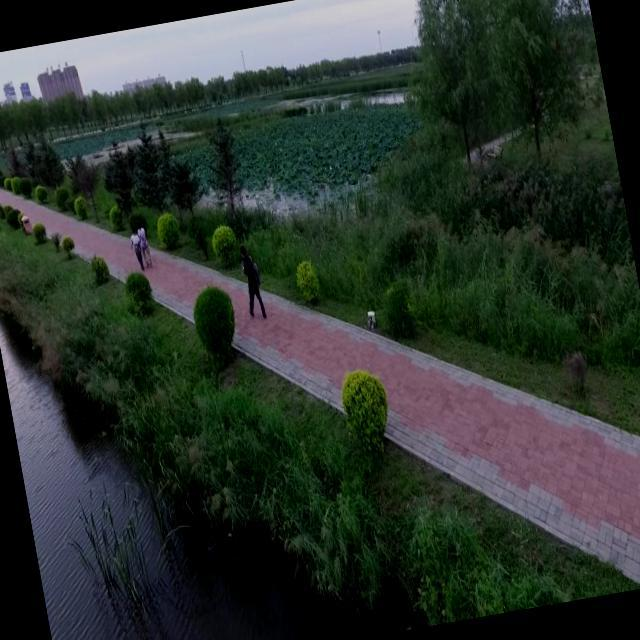person: (235, 240, 268, 323)
